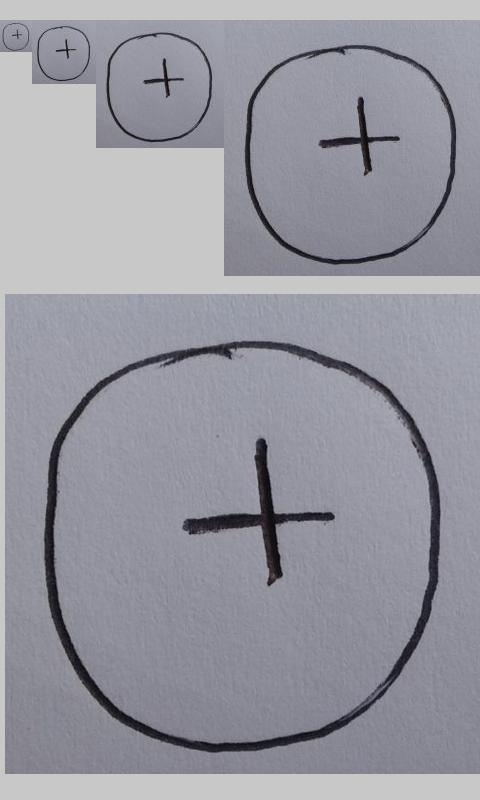button: (41, 339, 445, 756), (243, 44, 458, 264), (106, 32, 213, 143), (36, 25, 91, 82), (2, 22, 30, 51)
